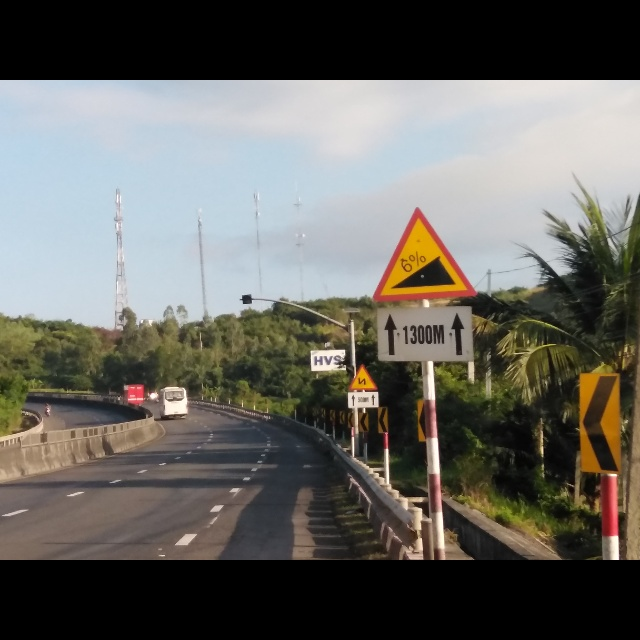Dốc lên nguy hiểm: (373, 205, 477, 302)
Ngoặt nguy hiểm liên tiếp bên phải: (348, 364, 380, 392)
